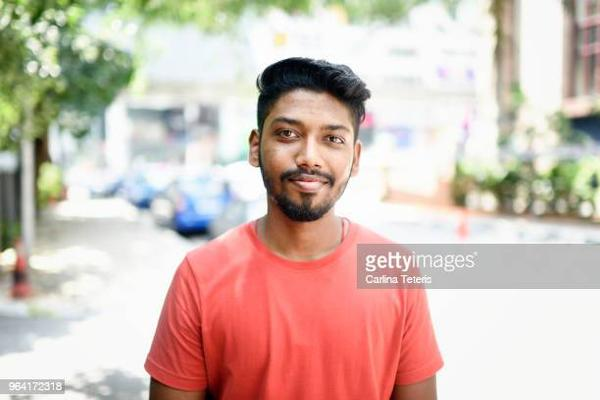Indian: (264, 103, 350, 215)
